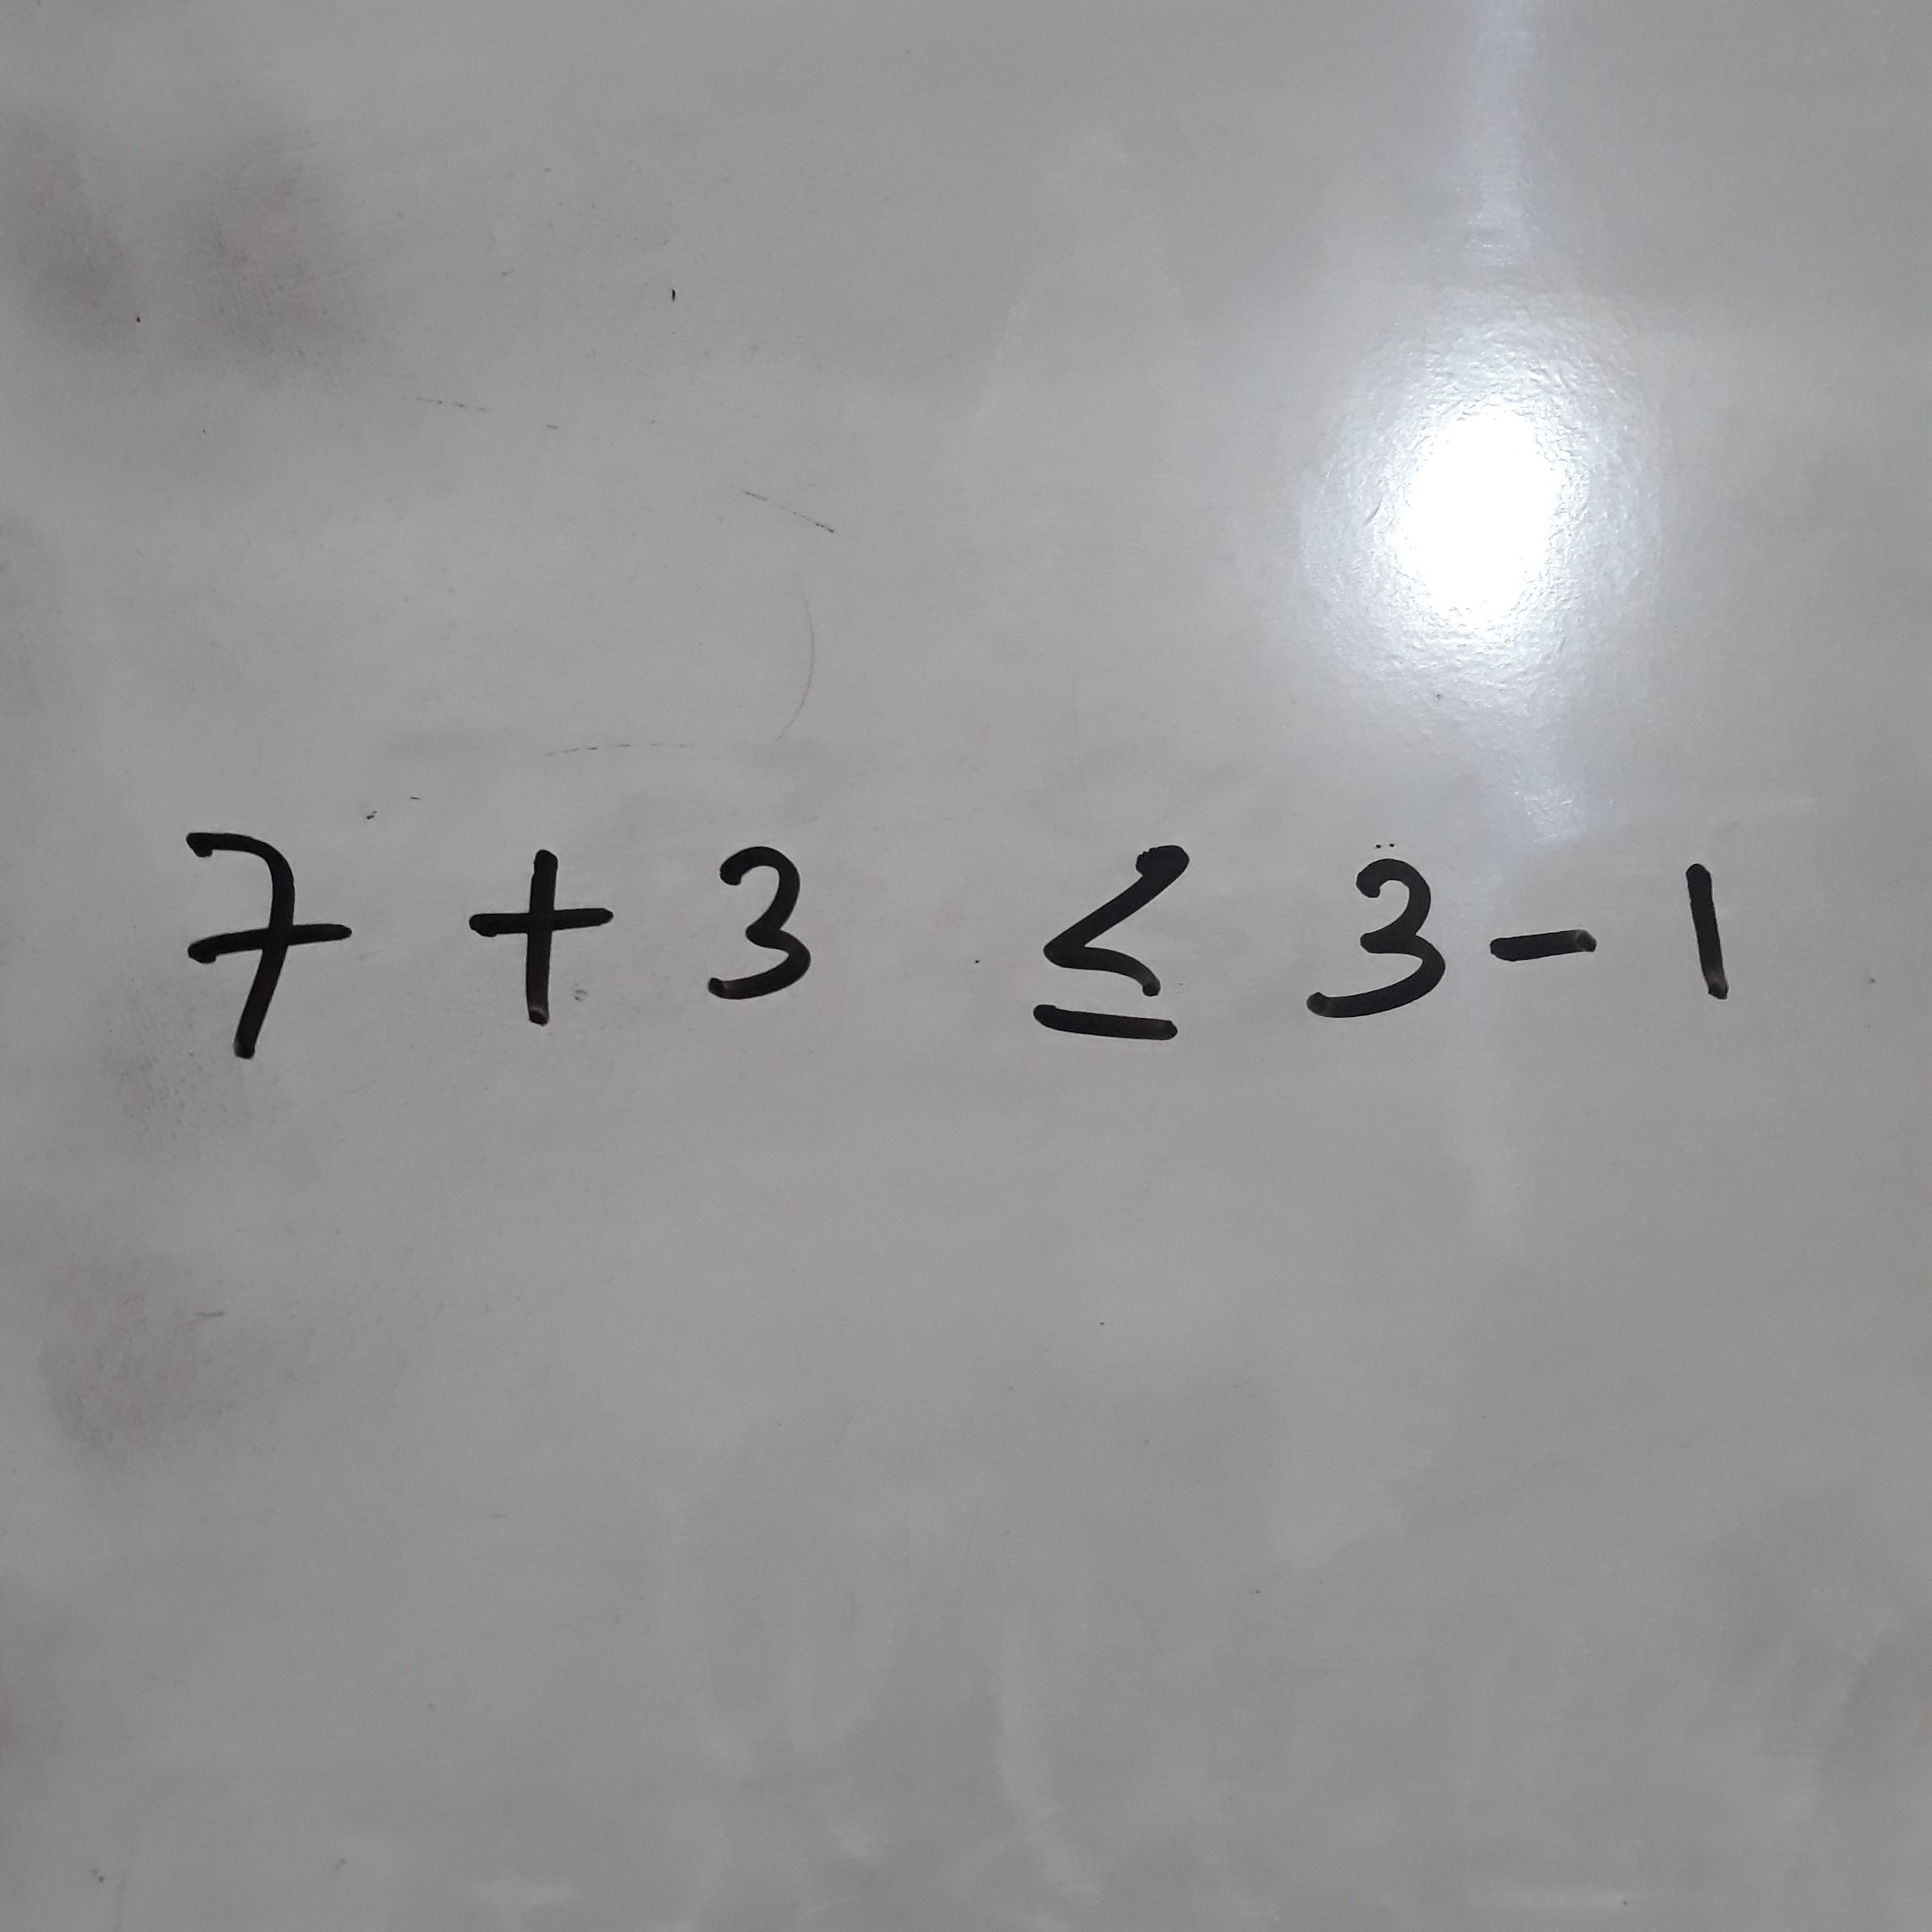lessthan-equal: (1008, 829, 1214, 1055)
min: (1478, 894, 1605, 983)
num1: (1664, 847, 1765, 1018)
num3: (1278, 835, 1462, 1033), (667, 821, 833, 1026)
num7: (163, 797, 364, 1078)
sum: (461, 826, 626, 1031)
